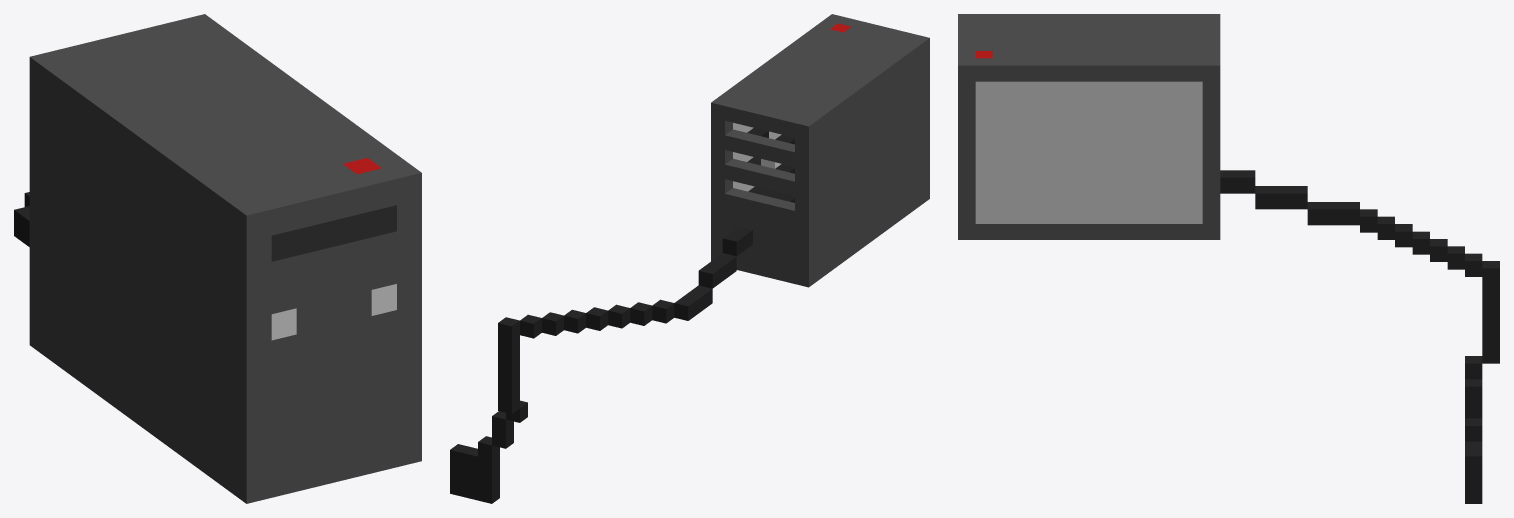
3 renders of one model, left to right at view 1: azimuth 30°, elevation 25°; view 2: azimuth 150°, elevation 25°; view 3: azimuth 270°, elevation 25°, orthographic. The views are drawn at different scales.
Parts seen in each view (by area): view 1: PC; view 2: PC; view 3: PC.
Boxes of the visible parts, bbox=[...] form: PC: bbox=[14, 14, 421, 503]; PC: bbox=[450, 14, 929, 503]; PC: bbox=[958, 14, 1499, 503].
Bounding box in the file's own units: 1.7 × 2.3 × 3.1.
1 material, 1 textured.
